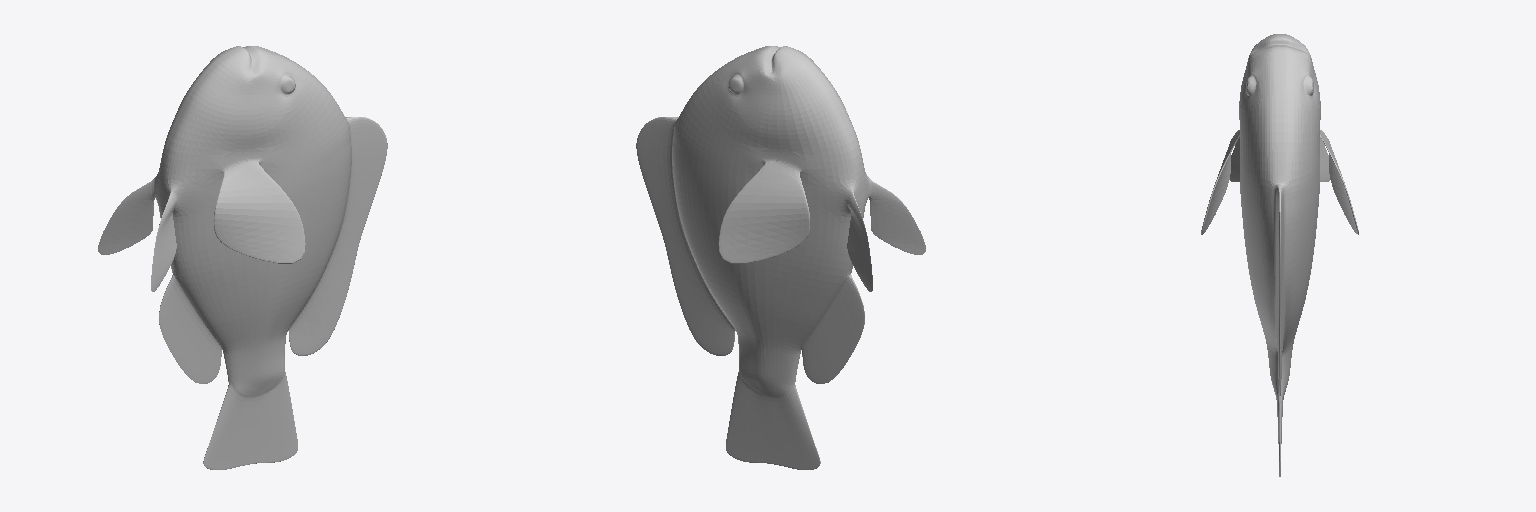
3 views of the same model, side by side, from view 1: azimuth 30°, elevation 25°; view 2: azimuth 150°, elevation 25°; view 3: azimuth 270°, elevation 25° (orthographic).
Parts seen in each view (by area): view 1: 12265_Fish_v1_L2.001; view 2: 12265_Fish_v1_L2.001; view 3: 12265_Fish_v1_L2.001.
Boxes of the visible parts, x1=… form: 12265_Fish_v1_L2.001: x1=98, y1=46, x2=387, y2=469; 12265_Fish_v1_L2.001: x1=636, y1=46, x2=925, y2=469; 12265_Fish_v1_L2.001: x1=1201, y1=34, x2=1358, y2=476.
Size of the model in its own units: 2.24 by 3.44 by 1.16.